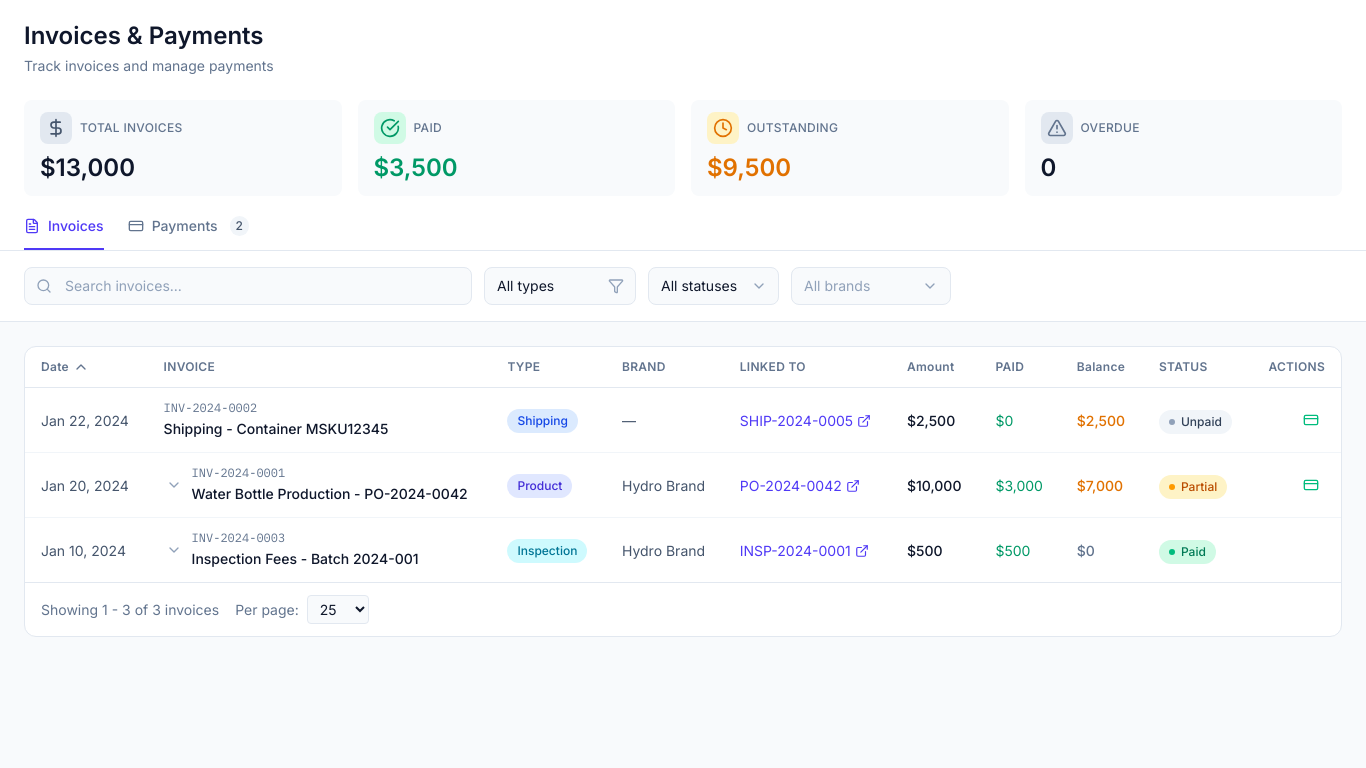
it: InvoicesPaymentsView › Tab Navigation › switches between Invoices and Payments tabs
Note: Click Payments tab
Click the button "Payments 2": {"x": 188, "y": 233} x1=128 y1=216 x2=249 y2=250
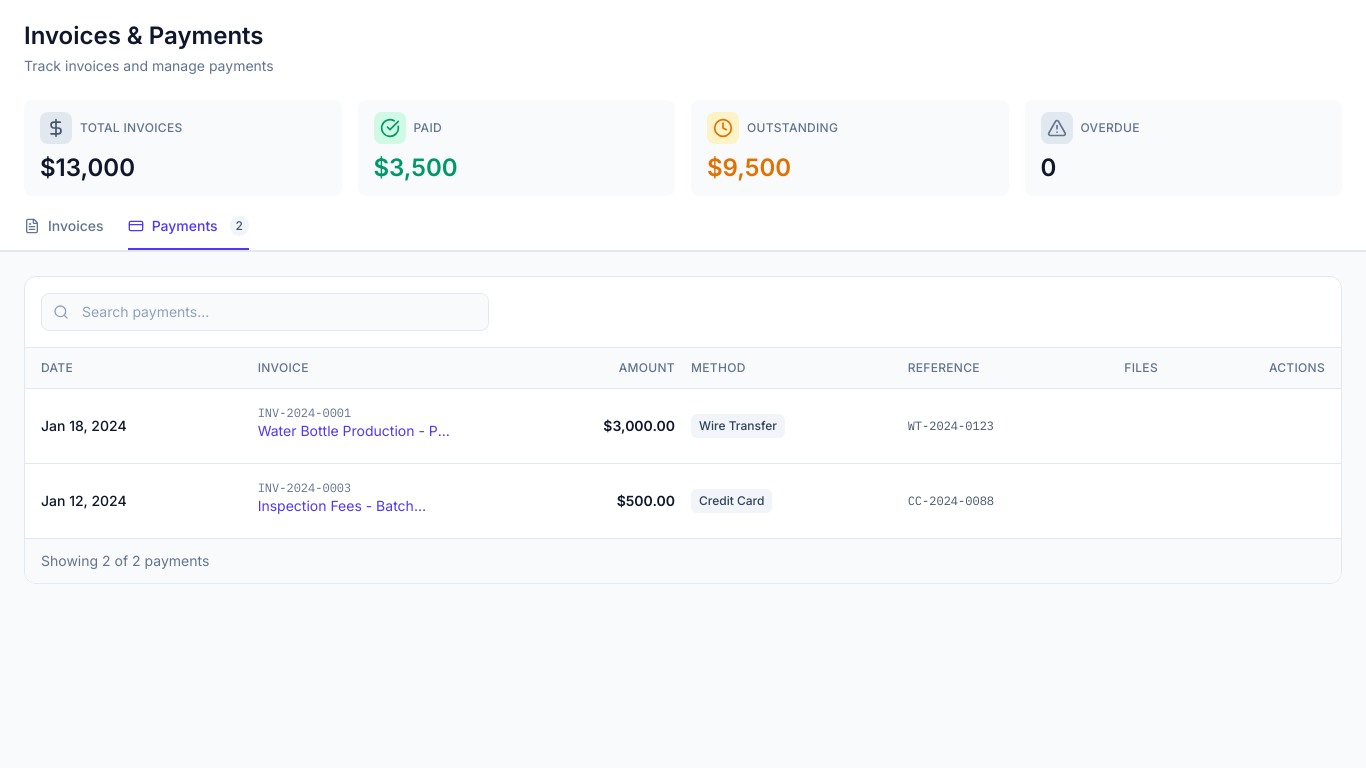
Check: the text "2" is shown, box x1=230 y1=216 x2=249 y2=236
Check: the field with placeholder "Search payments..." is shown, box x1=41 y1=293 x2=489 y2=331
